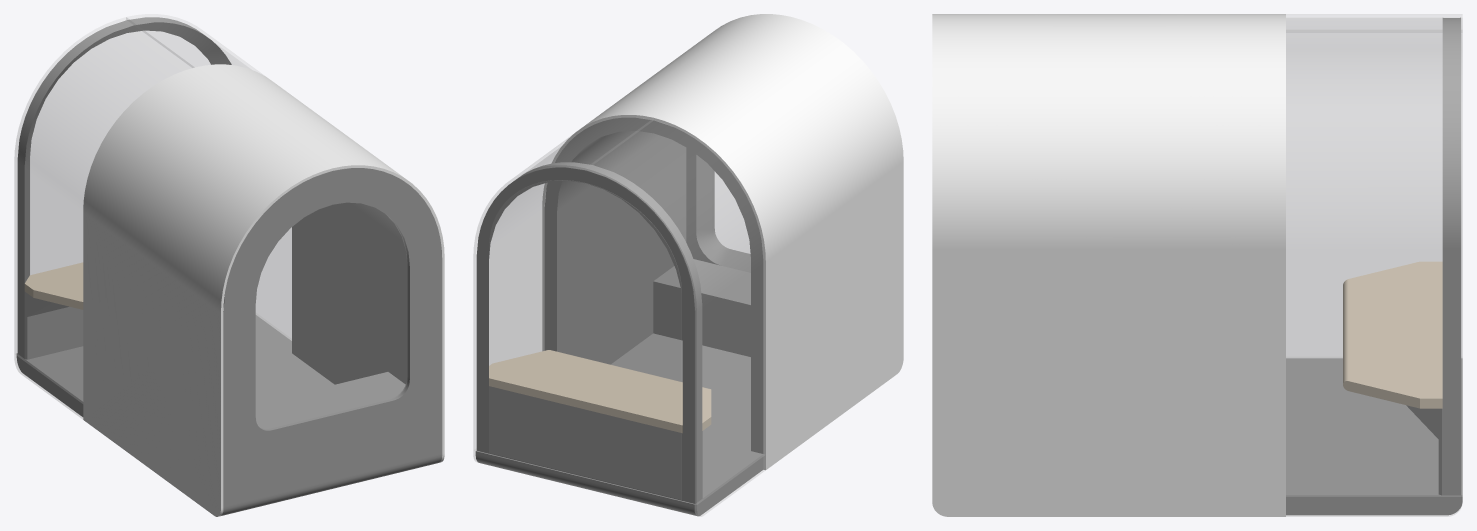
File: pod1.gltf
The picture shows the model from 3 angles, left to right: view 1: azimuth 30°, elevation 25°; view 2: azimuth 150°, elevation 25°; view 3: azimuth 270°, elevation 25°; orthographic projection. The views are drawn at different scales.
Parts seen in each view (by area): view 1: Body1, Body190, Body189, Body195, Body189.001, Body169, Body196, Body198; view 2: Body1, Body190, Body189.001, Body195, Body169, desktop, Body196, Body189, Body198; view 3: Body190, Body169, Body195, Body1, desktop, Body196, Body185.
Boxes of the visible parts, bbox=[...] form: Body1: bbox=[16, 17, 442, 515]; Body190: bbox=[83, 64, 444, 516]; Body189: bbox=[256, 203, 407, 428]; Body195: bbox=[14, 17, 193, 403]; Body189.001: bbox=[30, 31, 210, 274]; Body169: bbox=[126, 14, 291, 340]; Body196: bbox=[24, 262, 83, 309]; Body198: bbox=[14, 354, 82, 418]; Body1: bbox=[475, 117, 763, 516]; Body190: bbox=[542, 14, 903, 470]; Body189.001: bbox=[489, 180, 681, 499]; Body195: bbox=[585, 118, 765, 504]; Body169: bbox=[473, 115, 653, 450]; desktop: bbox=[489, 350, 629, 409]; Body196: bbox=[586, 369, 711, 433]; Body189: bbox=[712, 169, 749, 255]; Body198: bbox=[695, 455, 765, 516]; Body190: bbox=[932, 14, 1285, 516]; Body169: bbox=[1286, 30, 1462, 496]; Body195: bbox=[1286, 14, 1462, 357]; Body1: bbox=[1286, 17, 1462, 515]; desktop: bbox=[1343, 330, 1442, 408]; Body196: bbox=[1343, 261, 1442, 333]; Body185: bbox=[1286, 496, 1462, 516].
Size of the model in its own units: 2.29 by 3.18 by 3.66.
